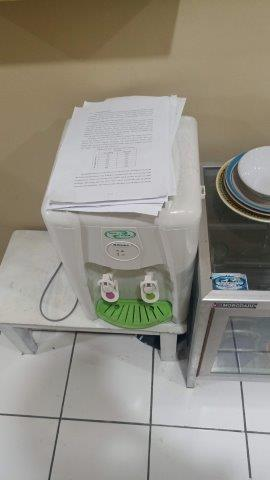kertas: (56, 93, 188, 214)
